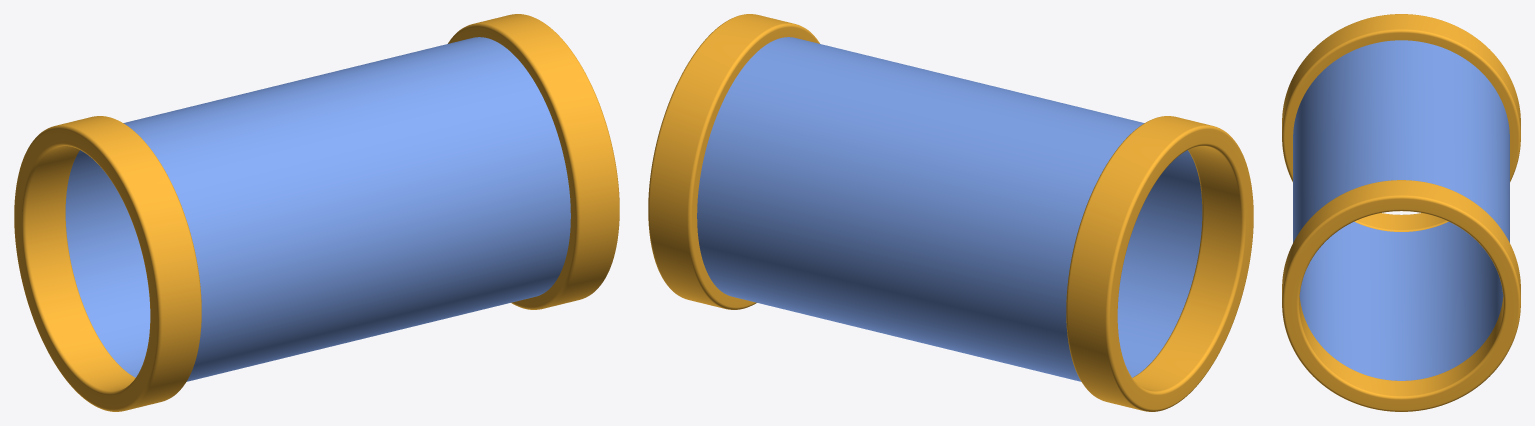
File: ExpulsionTubeStraight.glb
3 views of the same model, side by side, from view 1: azimuth 30°, elevation 25°; view 2: azimuth 150°, elevation 25°; view 3: azimuth 270°, elevation 25° (orthographic). The views are drawn at different scales.
Visible parts, largest first — view 1: HollowTransparentStraightTube, GoldEndCollar-0.625, GoldEndCollar0.625; view 2: HollowTransparentStraightTube, GoldEndCollar-0.625, GoldEndCollar0.625; view 3: HollowTransparentStraightTube, GoldEndCollar0.625, GoldEndCollar-0.625.
Part boxes in pixels (bbox=[...]): HollowTransparentStraightTube: bbox=[65, 37, 570, 381]; GoldEndCollar-0.625: bbox=[14, 116, 201, 411]; GoldEndCollar0.625: bbox=[448, 14, 619, 309]; HollowTransparentStraightTube: bbox=[697, 37, 1202, 381]; GoldEndCollar-0.625: bbox=[1066, 116, 1253, 411]; GoldEndCollar0.625: bbox=[648, 14, 819, 309]; HollowTransparentStraightTube: bbox=[1293, 40, 1509, 380]; GoldEndCollar0.625: bbox=[1282, 180, 1520, 411]; GoldEndCollar-0.625: bbox=[1282, 14, 1520, 231].
Bounding box in the file's own units: 1.38 × 0.76 × 0.76.
Materials: 2 (2 with a texture image).
